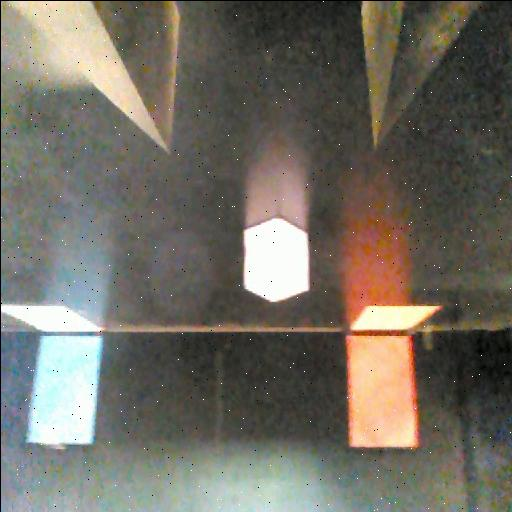cube: (236, 213, 310, 308)
